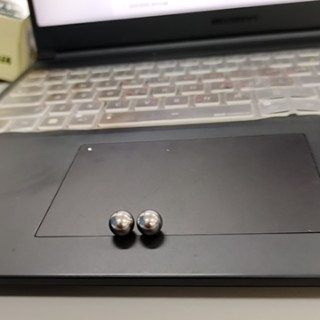ironball: (134, 201, 173, 242), (99, 206, 135, 247)
